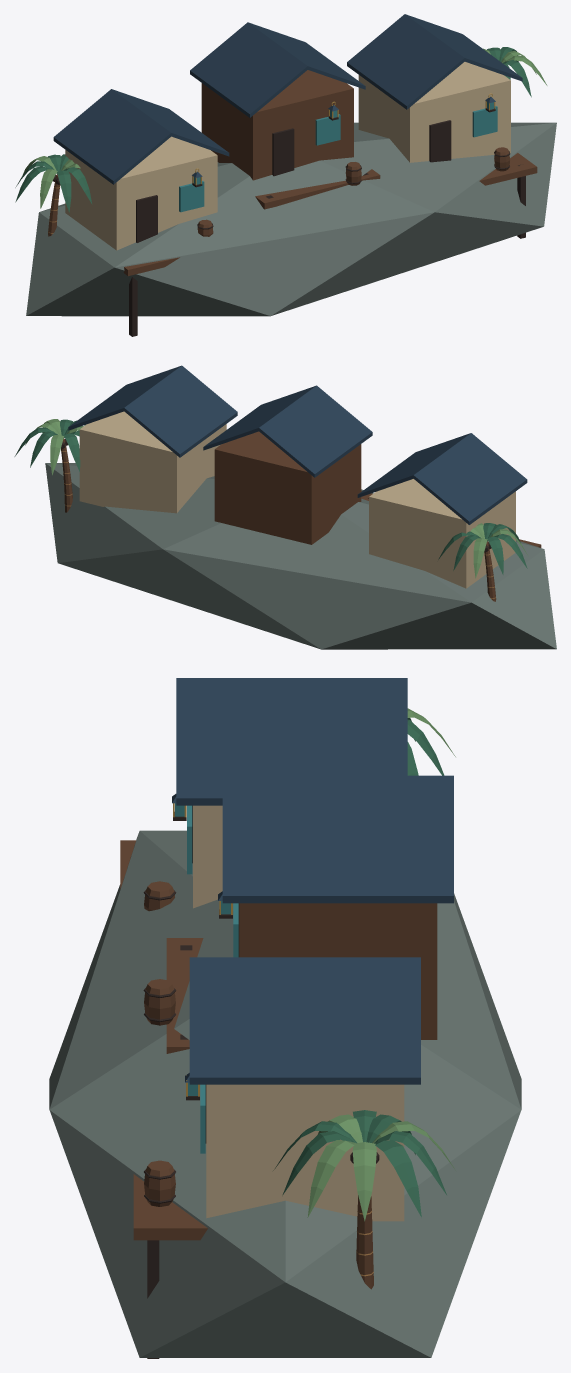
Rendered from PirateCove_SmugglerVillage_Showcase.glb.
3 views of the same model, one above another, from view 1: azimuth 30°, elevation 25°; view 2: azimuth 150°, elevation 25°; view 3: azimuth 270°, elevation 25° (orthographic). The views are drawn at different scales.
Parts seen in each view (by area): view 1: PirateCove_SmugglerVillage_Showcase; view 2: PirateCove_SmugglerVillage_Showcase; view 3: PirateCove_SmugglerVillage_Showcase.
Boxes of the visible parts, left/top/right/bottom form: PirateCove_SmugglerVillage_Showcase: left=15, top=14, right=556, bottom=336; PirateCove_SmugglerVillage_Showcase: left=14, top=365, right=556, bottom=649; PirateCove_SmugglerVillage_Showcase: left=49, top=678, right=521, bottom=1358.
Size of the model in its own units: 17.92 by 7.62 by 7.15.
